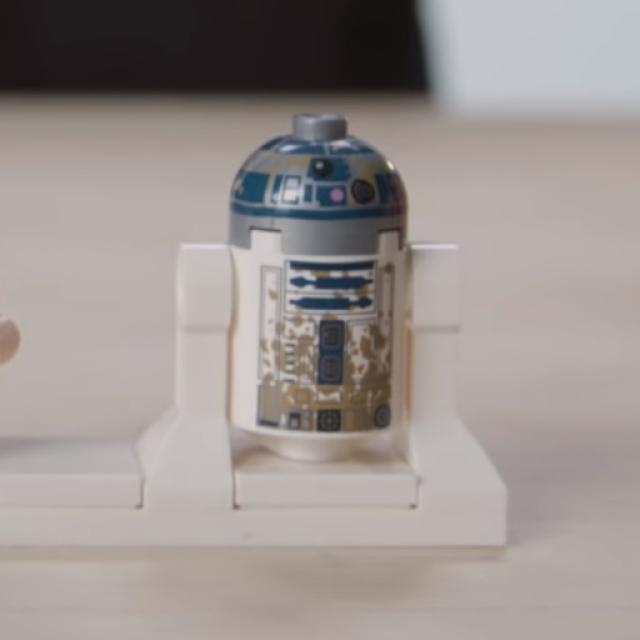Lego-Minifigures: (121, 82, 499, 569)
